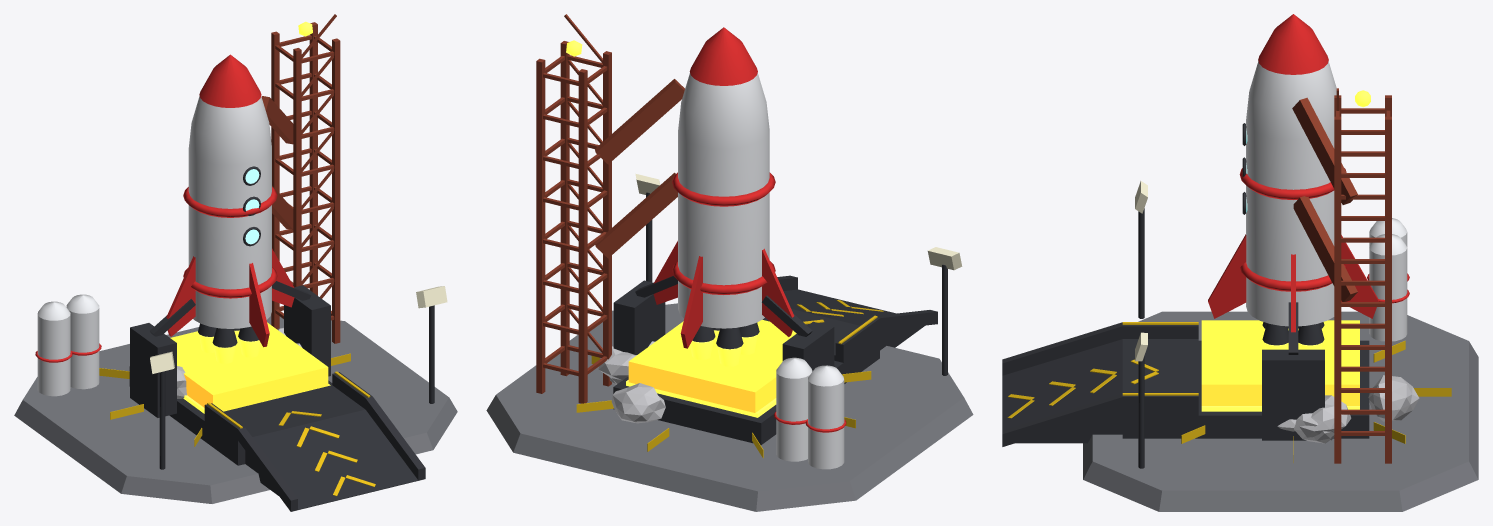
File: RocketPadFurnace_Roblox.fbx
3 views of the same model, side by side, from view 1: azimuth 30°, elevation 25°; view 2: azimuth 150°, elevation 25°; view 3: azimuth 270°, elevation 25° (orthographic). The views are drawn at different scales.
Parts seen in each view (by area): view 1: LaunchPad, RocketWhite, EngineDark, GantrySteel, Conveyor, BurnZone, RocketRed, PadStripe, RocketFlame, FloodLight; view 2: LaunchPad, RocketWhite, GantrySteel, EngineDark, RocketRed, BurnZone, Conveyor, Smoke, RocketFlame, PadStripe, FloodLight; view 3: LaunchPad, RocketWhite, EngineDark, GantrySteel, Conveyor, RocketRed, BurnZone, Smoke, PadStripe, RocketFlame, FloodLight.
Boxes of the visible parts, x1,y1,x2,y2 form: LaunchPad: (14, 314, 457, 503); RocketWhite: (37, 96, 271, 396); EngineDark: (129, 166, 434, 511); GantrySteel: (261, 14, 340, 343); Conveyor: (224, 385, 418, 509); BurnZone: (170, 322, 328, 411); RocketRed: (35, 54, 294, 362); PadStripe: (99, 353, 375, 496); RocketFlame: (183, 21, 330, 413); FloodLight: (150, 286, 447, 373); LaunchPad: (486, 303, 973, 511); RocketWhite: (678, 73, 844, 469); GantrySteel: (536, 14, 684, 403); EngineDark: (613, 192, 947, 444); RocketRed: (653, 27, 846, 432); BurnZone: (628, 319, 796, 412); Conveyor: (762, 289, 924, 360); Smoke: (598, 341, 665, 423); RocketFlame: (566, 40, 776, 417); PadStripe: (576, 300, 883, 458); FloodLight: (635, 173, 962, 270); LaunchPad: (1083, 311, 1478, 511); RocketWhite: (1246, 61, 1407, 341); EngineDark: (1002, 123, 1369, 468); GantrySteel: (1292, 88, 1391, 463); Conveyor: (1002, 339, 1198, 443); RocketRed: (1208, 14, 1409, 332); BurnZone: (1201, 320, 1359, 405); Smoke: (1277, 375, 1419, 443); PadStripe: (1007, 322, 1451, 462); RocketFlame: (1201, 90, 1370, 411); FloodLight: (1135, 181, 1147, 361).
Size of the model in its own units: 1400 by 1410 by 1505.
